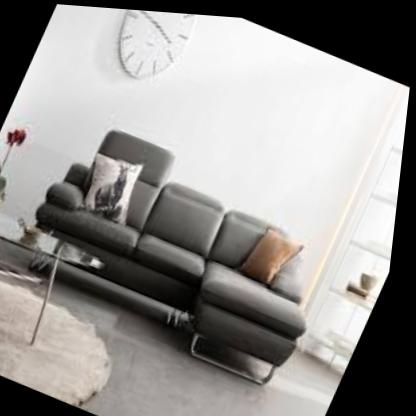Carpet: (0, 278, 120, 409)
Sofa: (7, 110, 364, 398)
